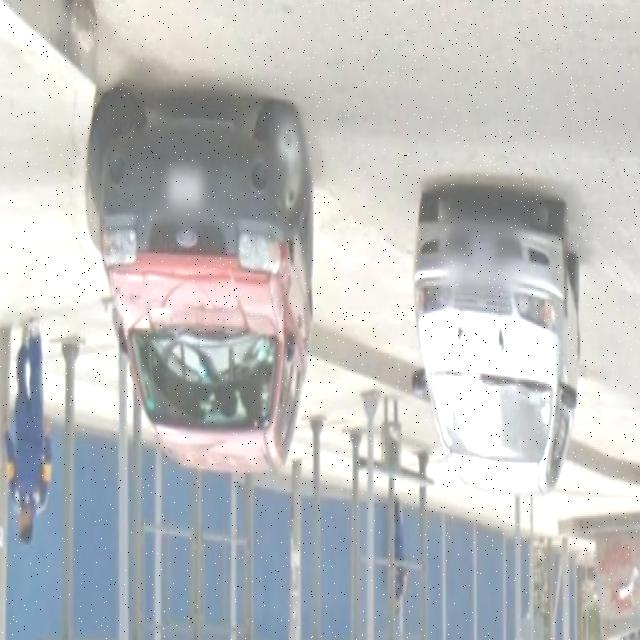car: (99, 90, 321, 476), (400, 186, 586, 501)
